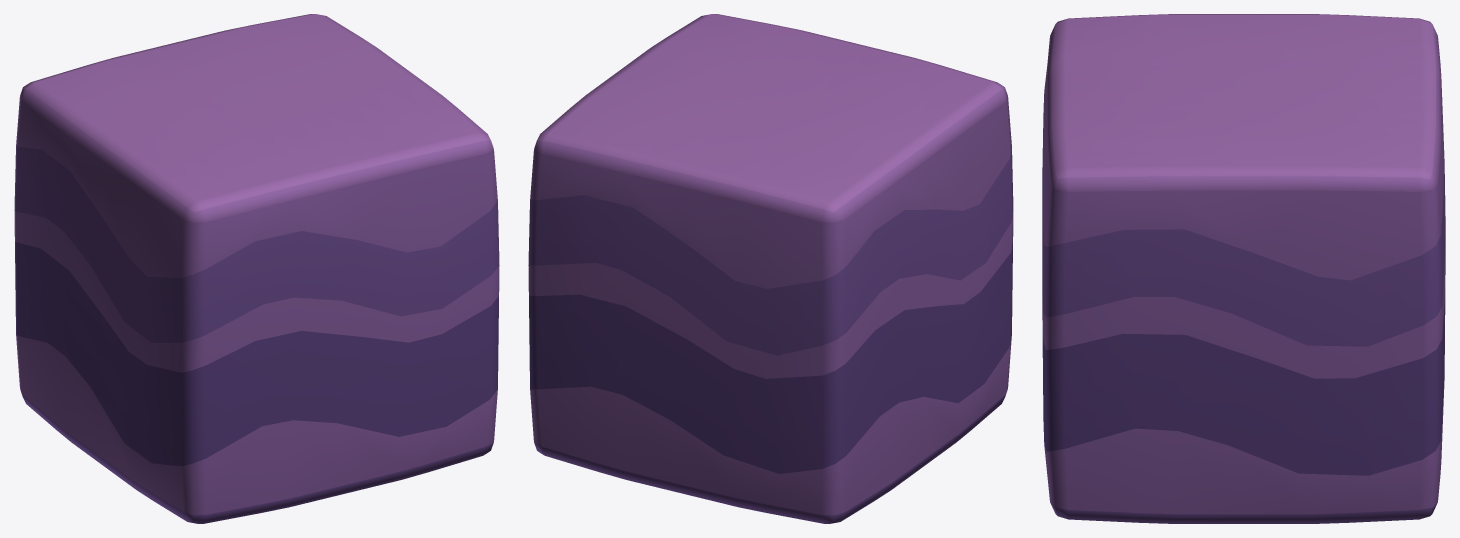
File: Grass_Purple.fbx
3 views of the same model, side by side, from view 1: azimuth 30°, elevation 25°; view 2: azimuth 150°, elevation 25°; view 3: azimuth 270°, elevation 25° (orthographic). The views are drawn at different scales.
Parts seen in each view (by area): view 1: Grass_Purple_LOD0; view 2: Grass_Purple_LOD0; view 3: Grass_Purple_LOD0.
Boxes of the visible parts, x1=… form: Grass_Purple_LOD0: x1=14, y1=14, x2=499, y2=523; Grass_Purple_LOD0: x1=528, y1=14, x2=1013, y2=523; Grass_Purple_LOD0: x1=1042, y1=14, x2=1445, y2=523.
Size of what is drawn, in the model's own units: 1.08 by 1.07 by 1.08.
